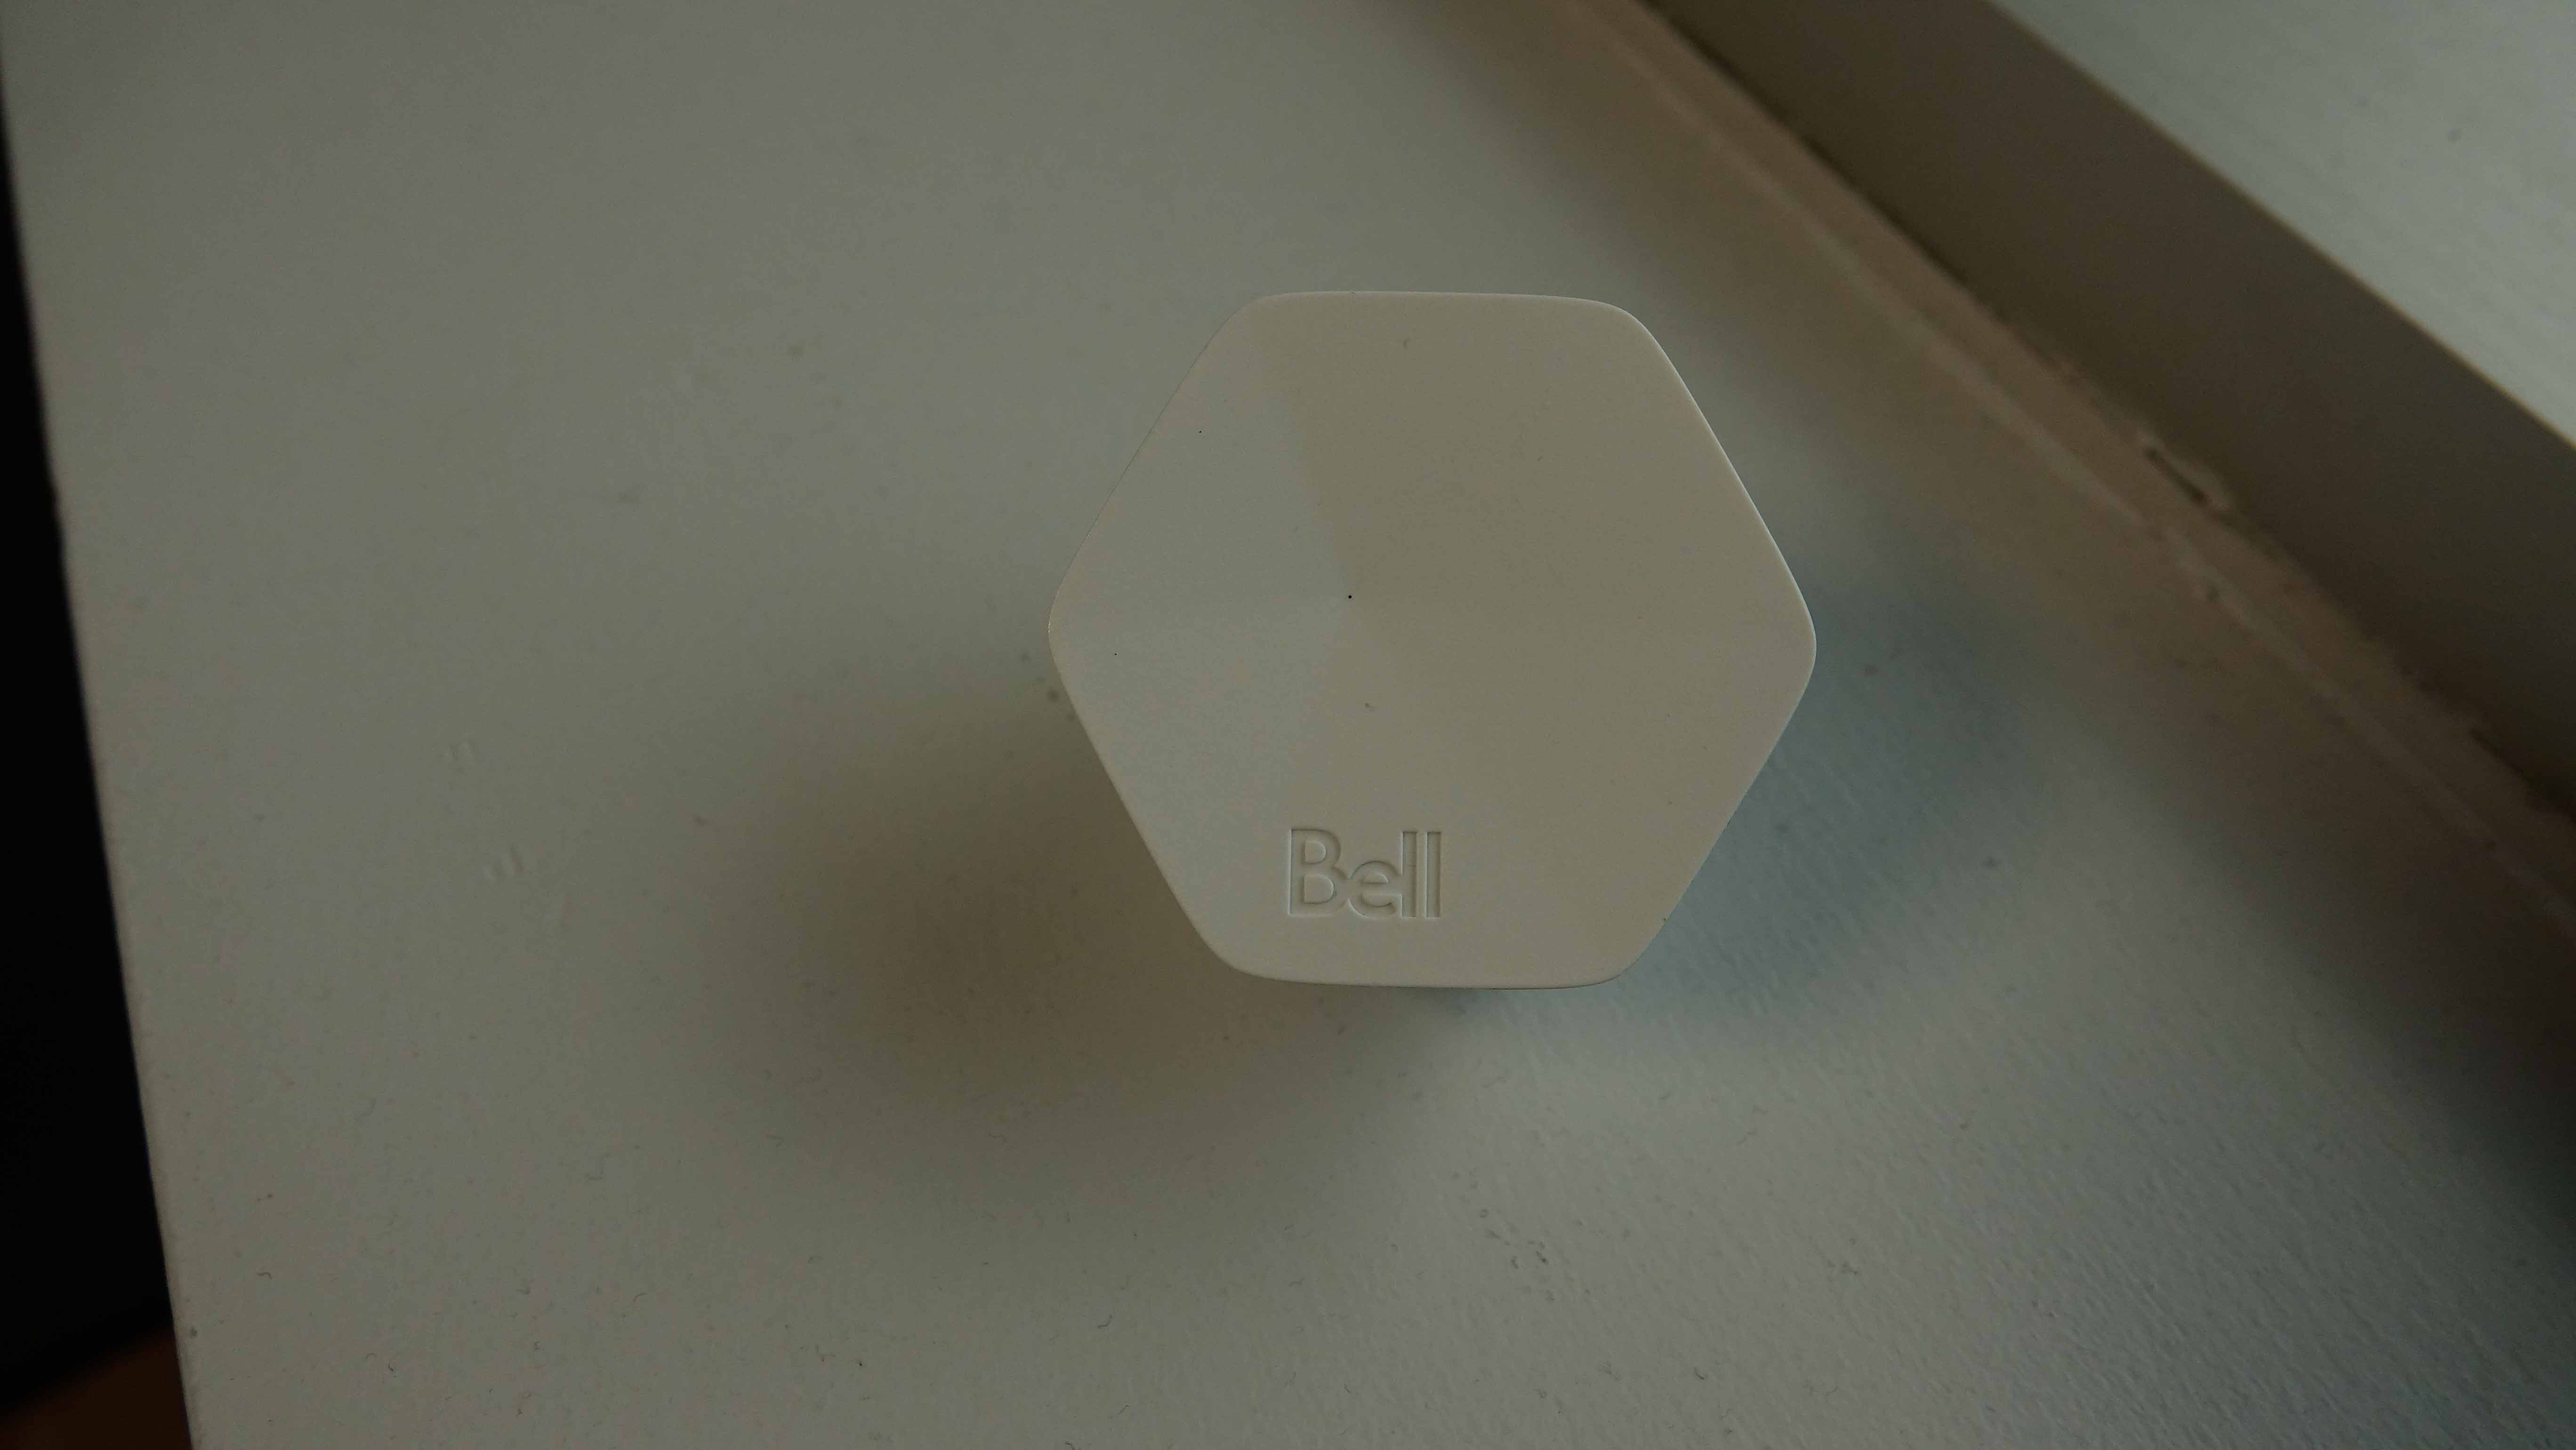pod: (1033, 281, 1842, 1013)
